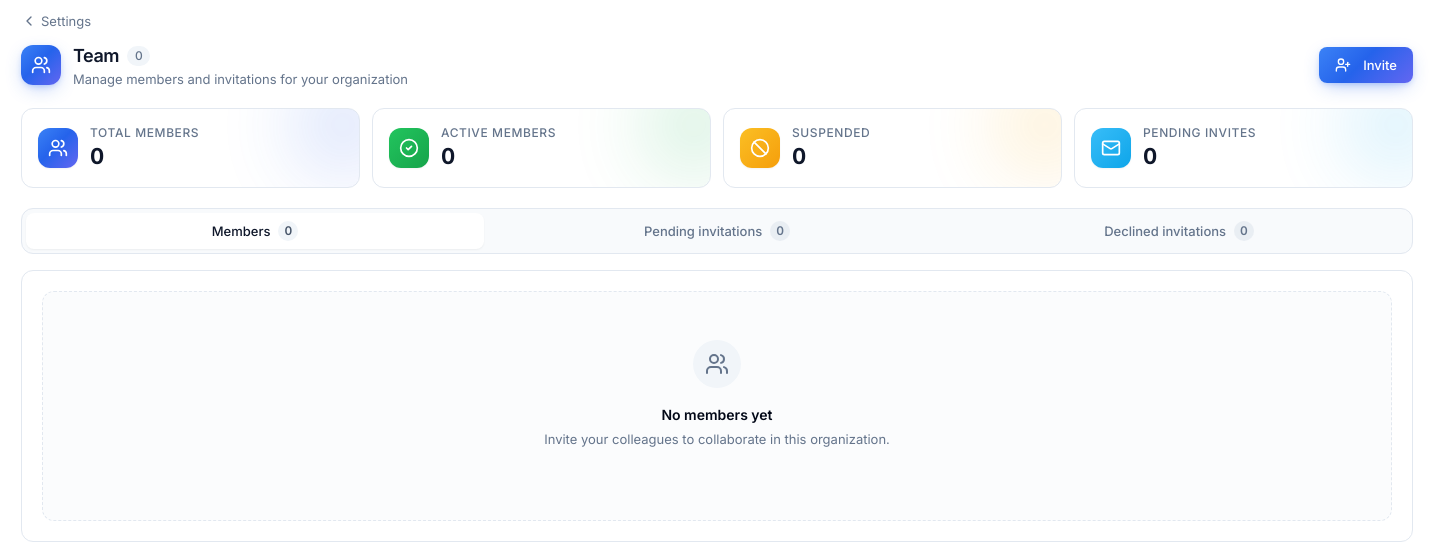
Test: TeamManagementView › shows empty states when there are no members or invitations
The width and height of the screenshot is (1435, 559).
Expected: the heading "No members yet" is shown, [661,404,773,426]
Click the tab "Pending invitations 0". click: click(717, 231)
box: [488,213,946,249]
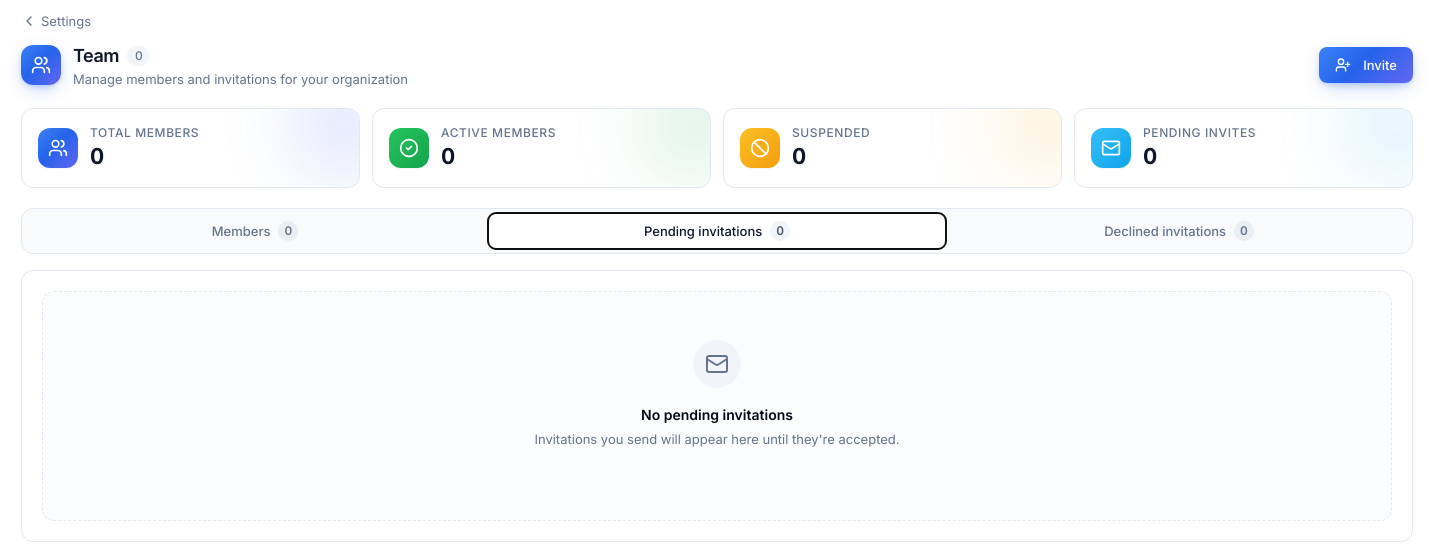
Now the heading "No pending invitations" is shown, box [641,404,793,426]
